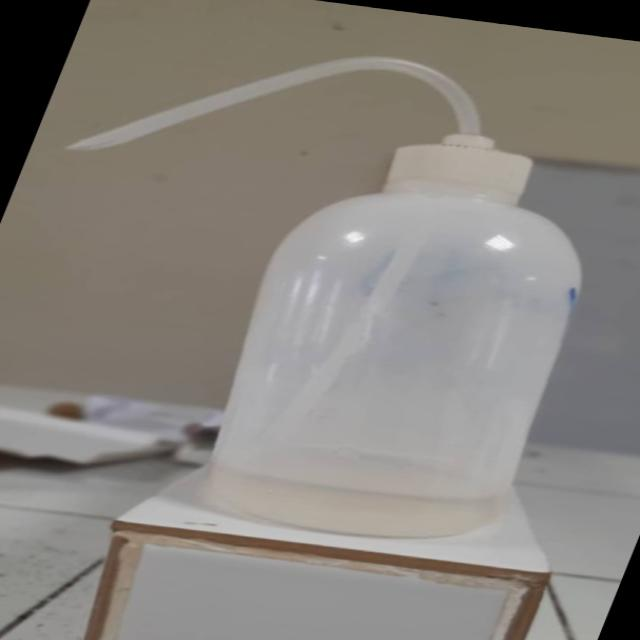Washing Bottle: (0, 7, 640, 551)
